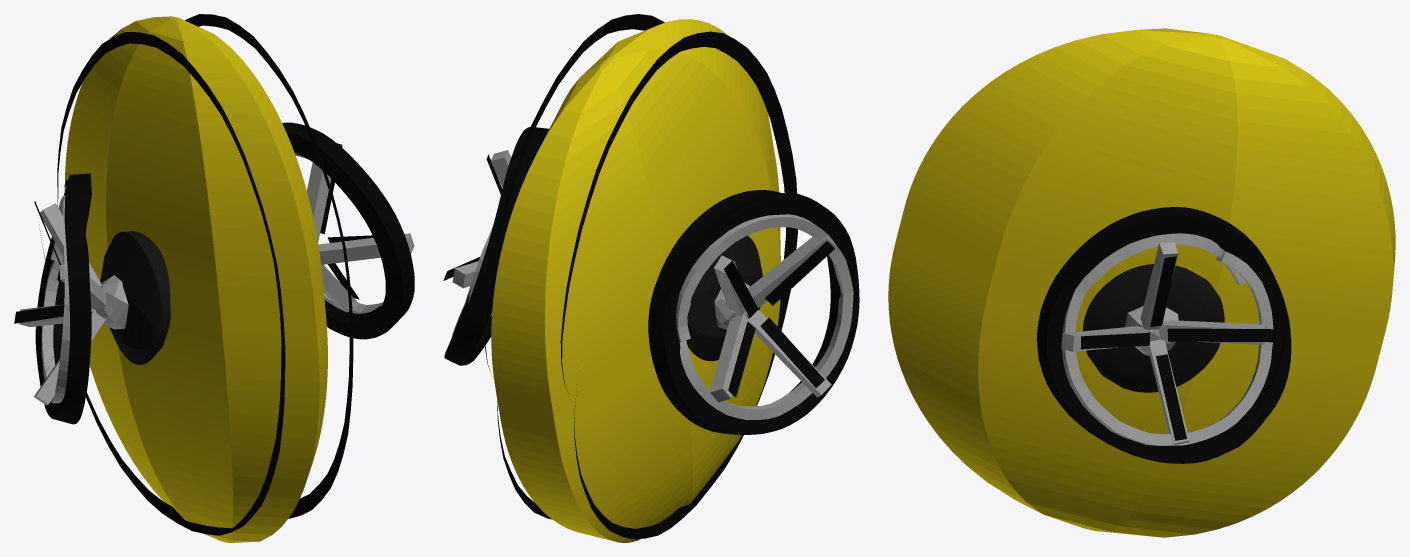
The model's file is Door.fbx.
The picture shows the model from 3 angles, left to right: view 1: azimuth 30°, elevation 25°; view 2: azimuth 150°, elevation 25°; view 3: azimuth 270°, elevation 25°; orthographic projection. The views are drawn at different scales.
Parts seen in each view (by area): view 1: Door; view 2: Door; view 3: Door.
Part boxes in pixels (x1=…): Door: x1=14, y1=14, x2=414, y2=542; Door: x1=443, y1=14, x2=859, y2=542; Door: x1=888, y1=28, x2=1395, y2=537.
Bounding box in the file's own units: 0.1462 × 0.1931 × 0.1753.
